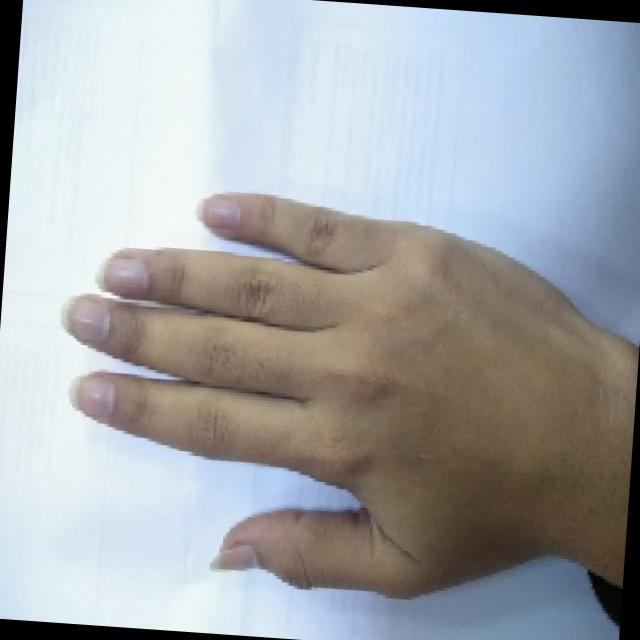Nail: (60, 294, 109, 343), (93, 256, 146, 297), (68, 377, 113, 422), (196, 193, 241, 228), (209, 543, 257, 570)
